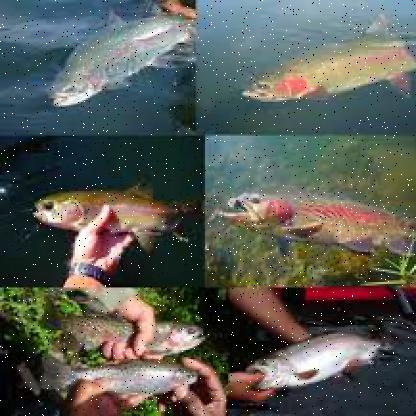fish: (238, 14, 414, 102), (46, 8, 200, 104), (242, 326, 396, 390), (21, 185, 189, 241), (39, 353, 201, 398), (23, 316, 206, 352)
